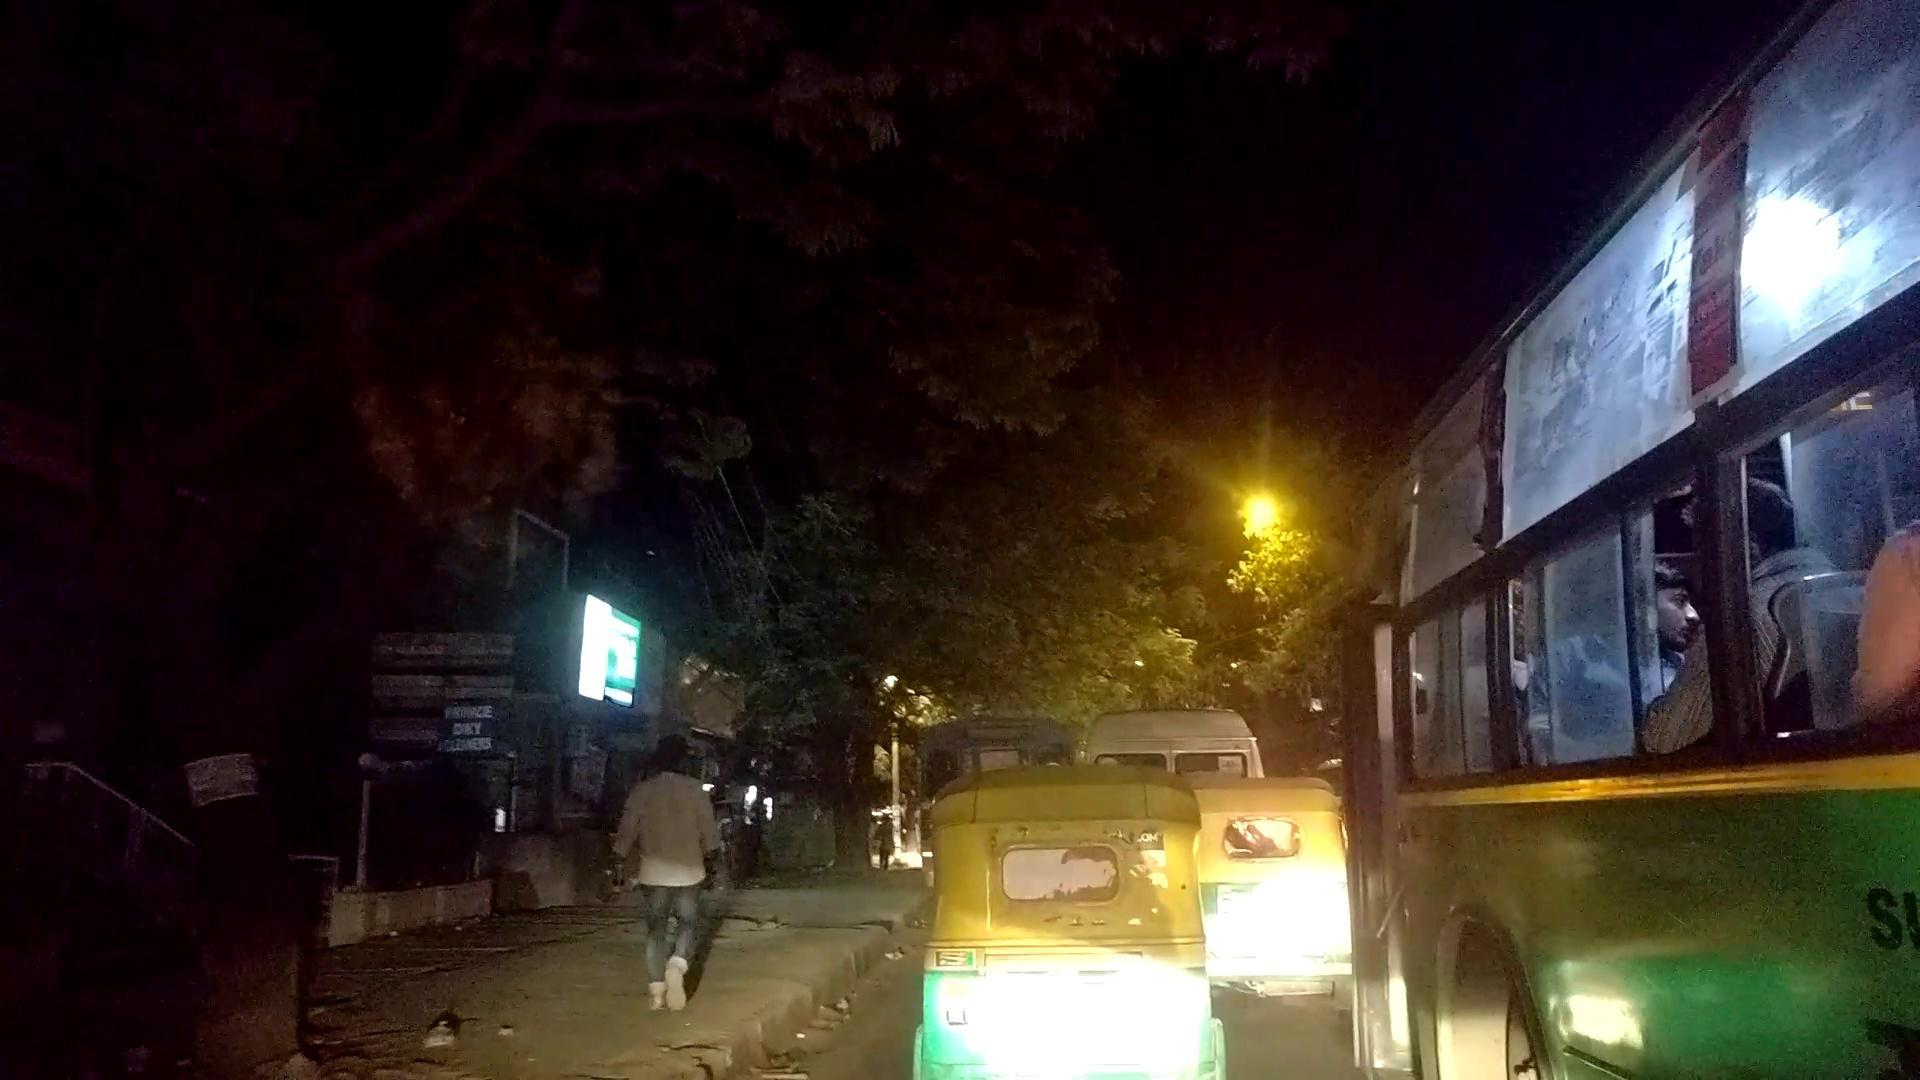on: (90, 3, 1871, 1080)
